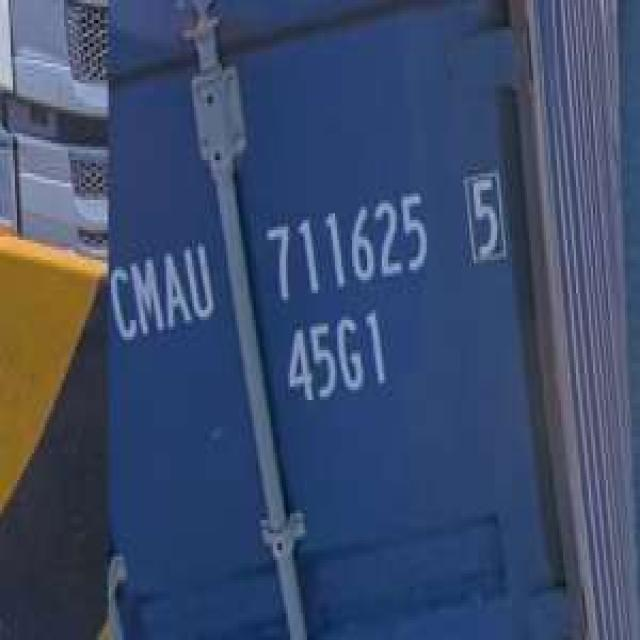dv: (460, 160, 509, 274)
owner: (107, 237, 218, 353)
serial: (255, 181, 435, 305)
size: (270, 306, 400, 410)
